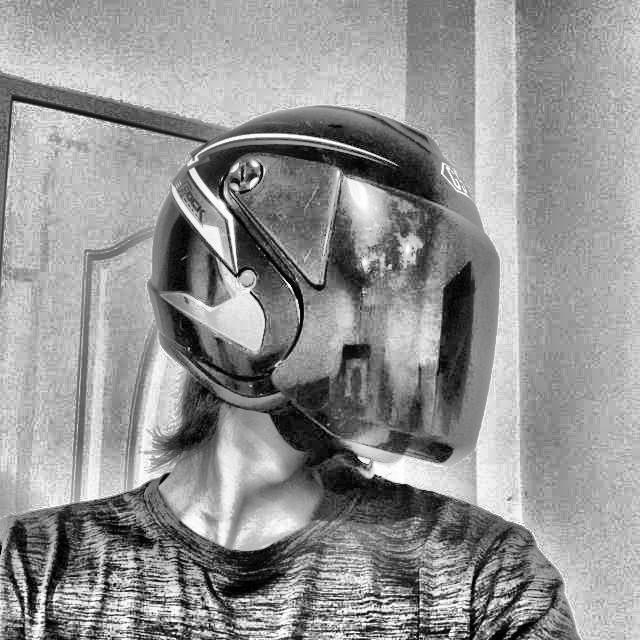Helmet: (142, 100, 508, 494)
